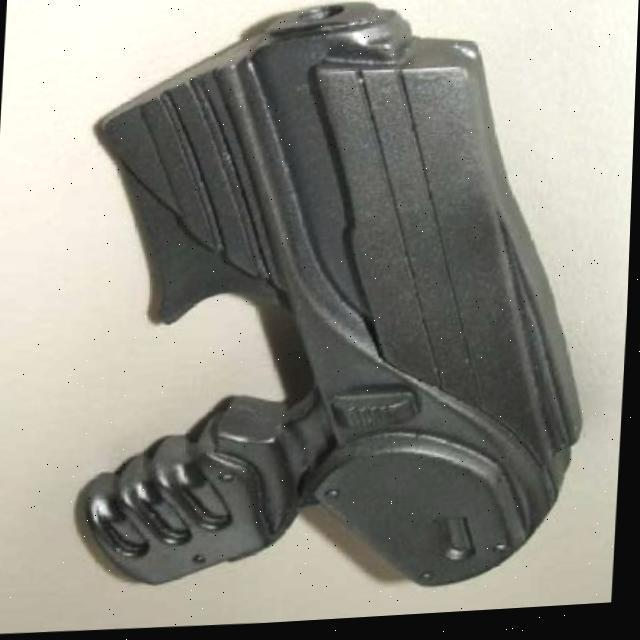gun: (67, 0, 611, 614)
